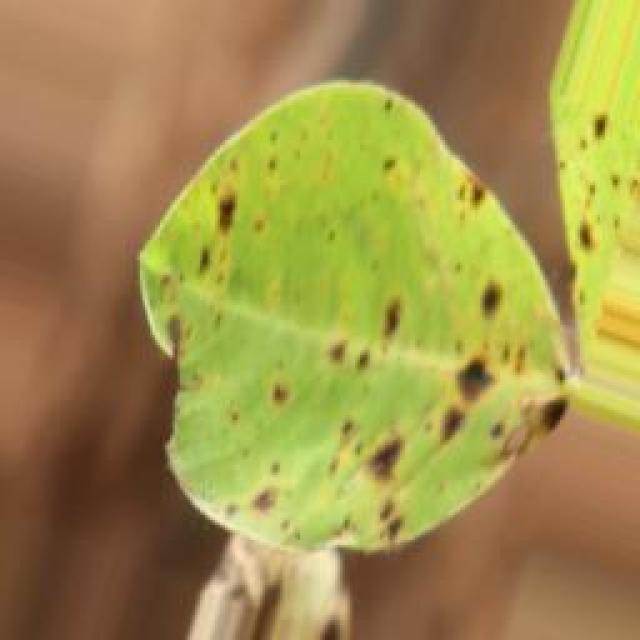Yellowish: (113, 67, 640, 544)
